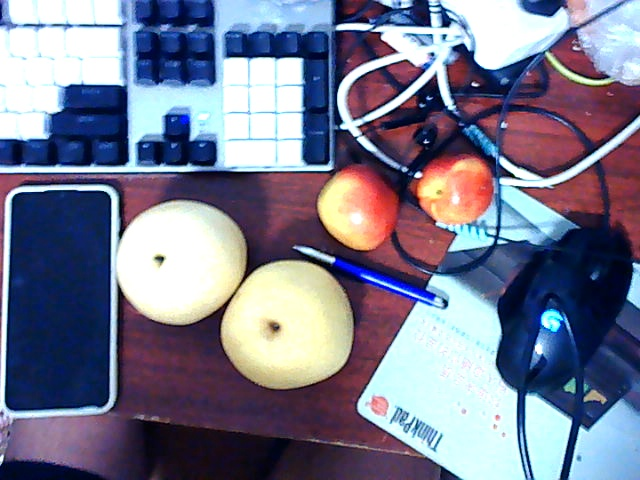peach: (318, 166, 398, 248), (420, 149, 490, 226)
pear: (221, 261, 356, 396), (116, 193, 240, 315)
